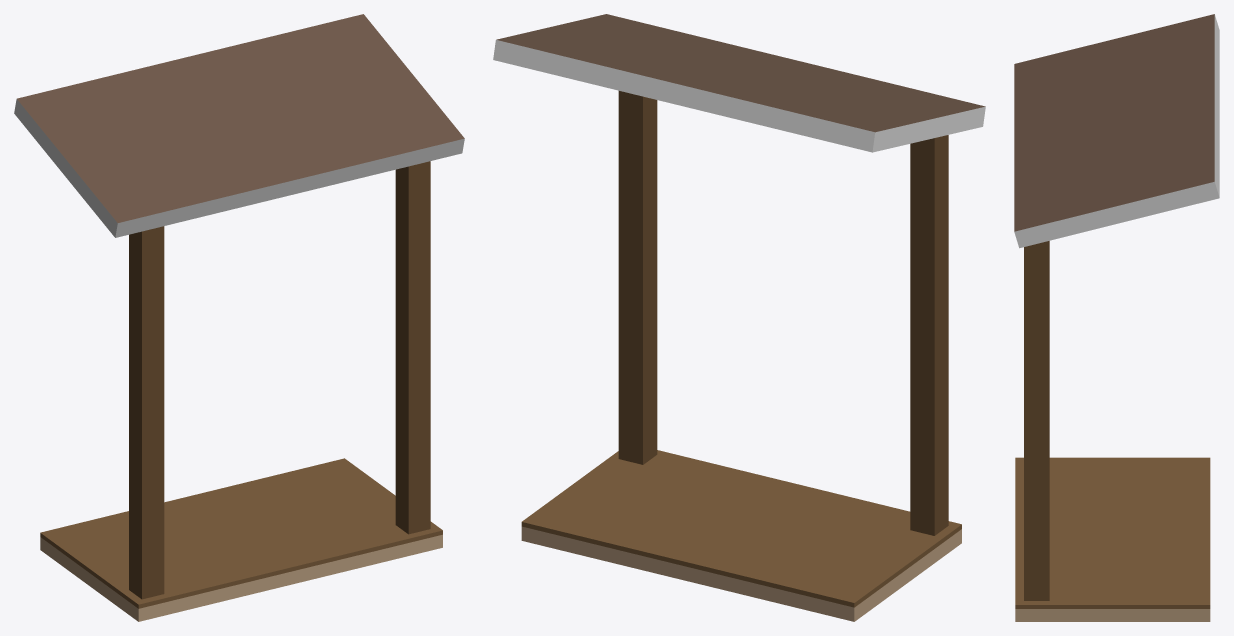
Rendered from Terrace2_C2.fbx.
3 renders of one model, left to right at view 1: azimuth 30°, elevation 25°; view 2: azimuth 150°, elevation 25°; view 3: azimuth 270°, elevation 25°, orthographic. The views are drawn at different scales.
Visible parts, largest first — view 1: Terrace2_C2; view 2: Terrace2_C2; view 3: Terrace2_C2.
Boxes of the visible parts, bbox=[...] form: Terrace2_C2: bbox=[14, 14, 464, 621]; Terrace2_C2: bbox=[493, 14, 985, 621]; Terrace2_C2: bbox=[1014, 14, 1219, 621].
Size of the model in its own units: 2.1 by 2.63 by 1.09.
